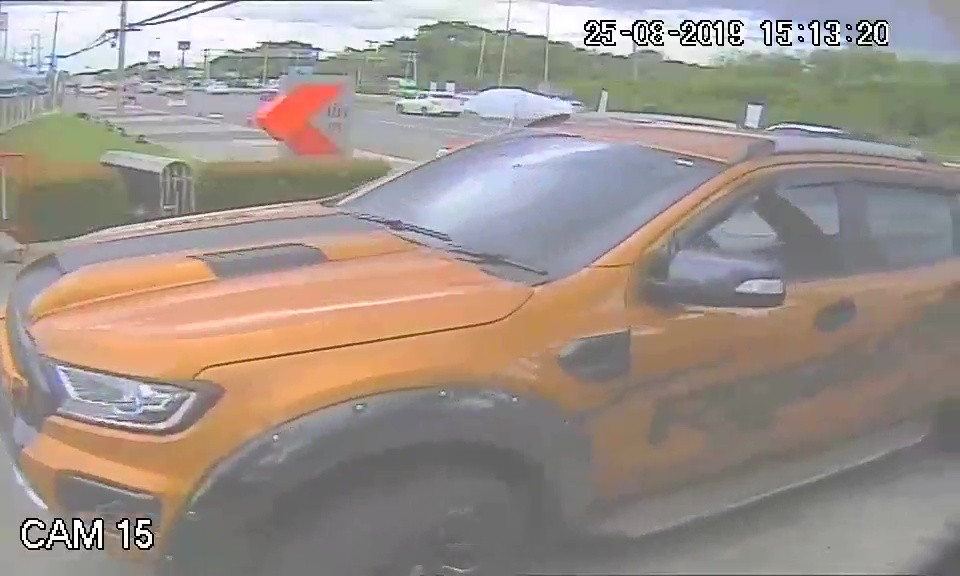pickup: (14, 107, 960, 559)
